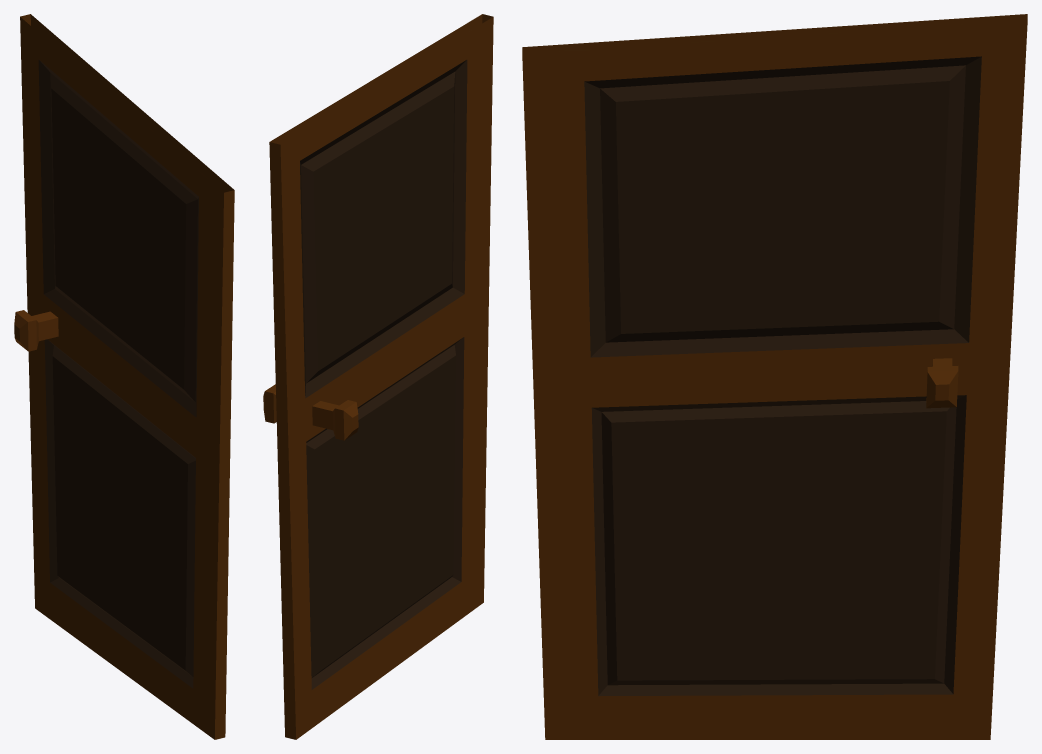
File: Door.fbx
The picture shows the model from 3 angles, left to right: view 1: azimuth 30°, elevation 25°; view 2: azimuth 150°, elevation 25°; view 3: azimuth 270°, elevation 25°; orthographic projection. The views are drawn at different scales.
Parts seen in each view (by area): view 1: Door; view 2: Door; view 3: Door.
Part boxes in pixels (box(x1,y1,x2,y2)): Door: box(14, 14, 234, 739); Door: box(263, 14, 493, 739); Door: box(522, 14, 1027, 739).
Bounding box in the file's own units: 0.4115 × 2.67 × 1.7.
